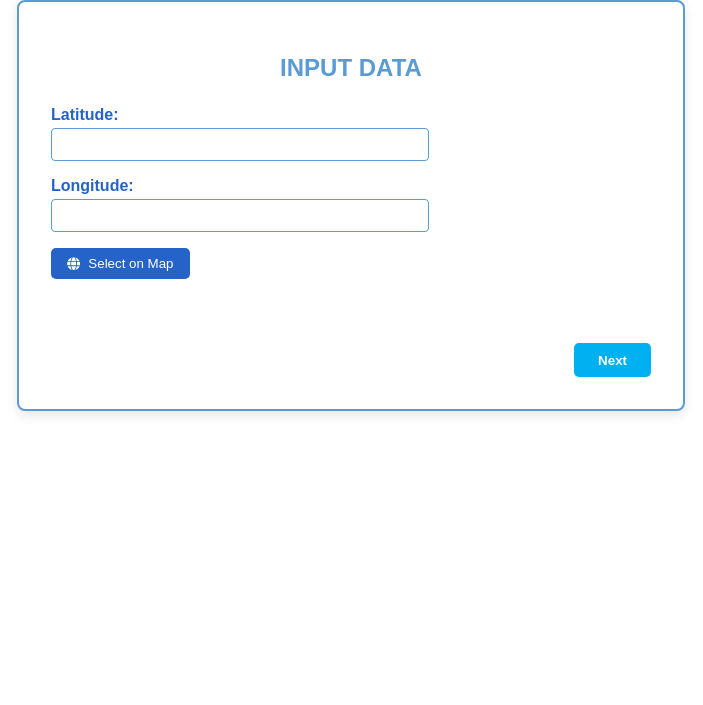
it: shows a visible message when the backend request fails
Step 1. Type "4.6097" into the field named "latitude" below "Latitude:" → (240, 144), box [51,128,429,161]
Step 2. Type "-74.0817" into the field named "longitude" below "Longitude:" → (240, 215), box [51,199,429,232]
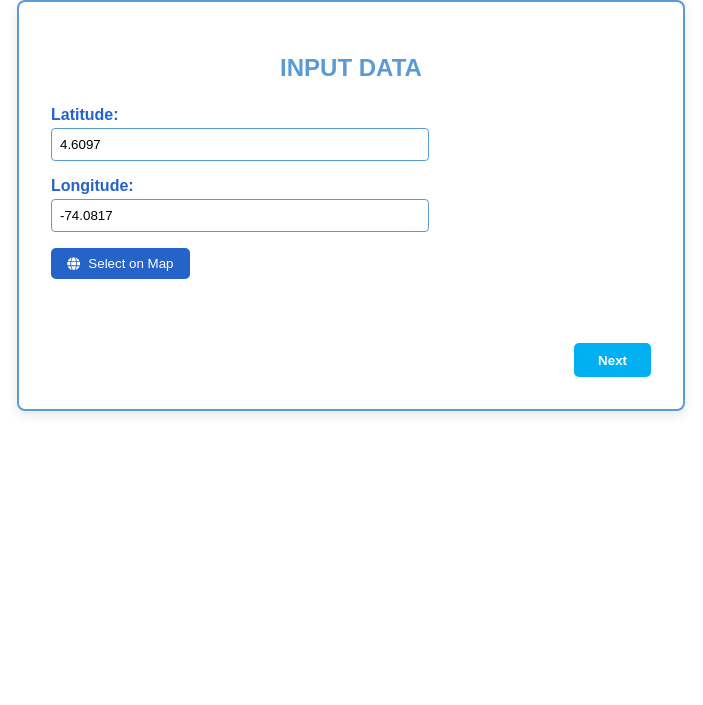
Step 3. Click the button "Next" → (613, 360), box [574,343,651,377]
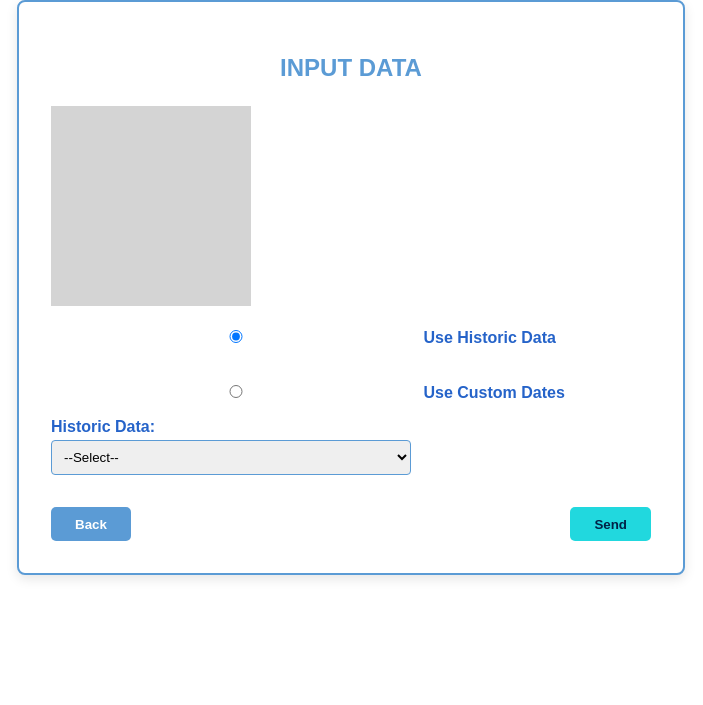
Step 4. Click the radio button labelled "Use Custom Dates" → (236, 391), box [56,385,416,398]
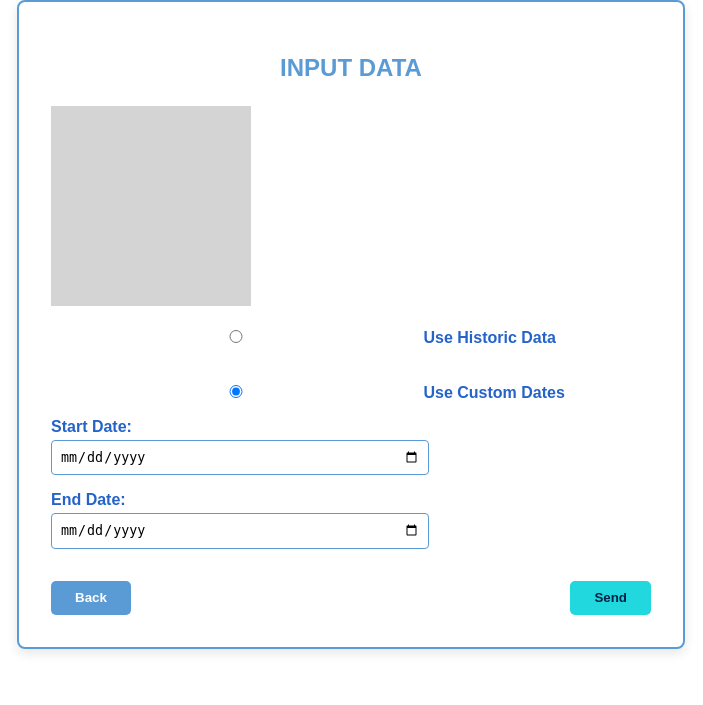
Step 5. Type "2020-08-18" into the date field named "startDate" below "Start Date:" → (240, 458), box [51,440,429,475]
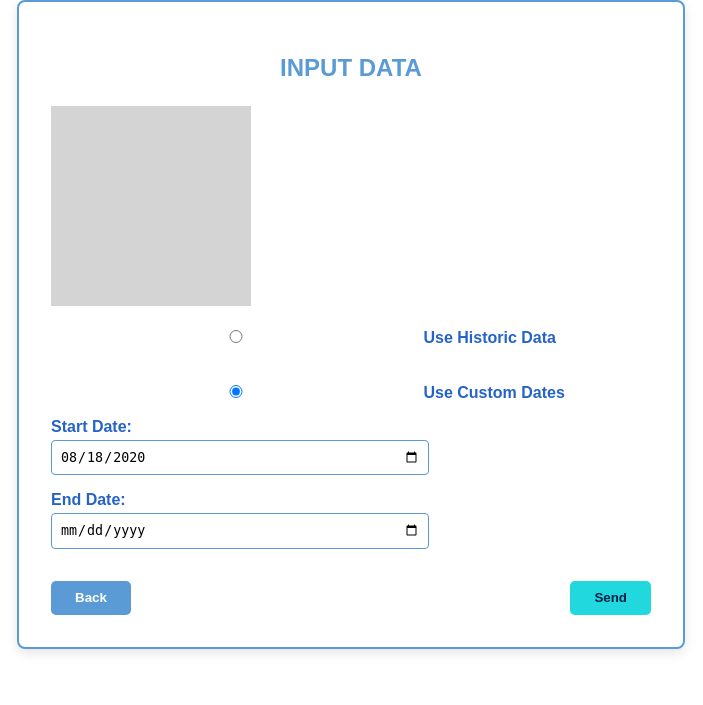
Step 6. Type "2020-08-19" into the date field named "endDate" below "End Date:" → (240, 531), box [51,513,429,548]
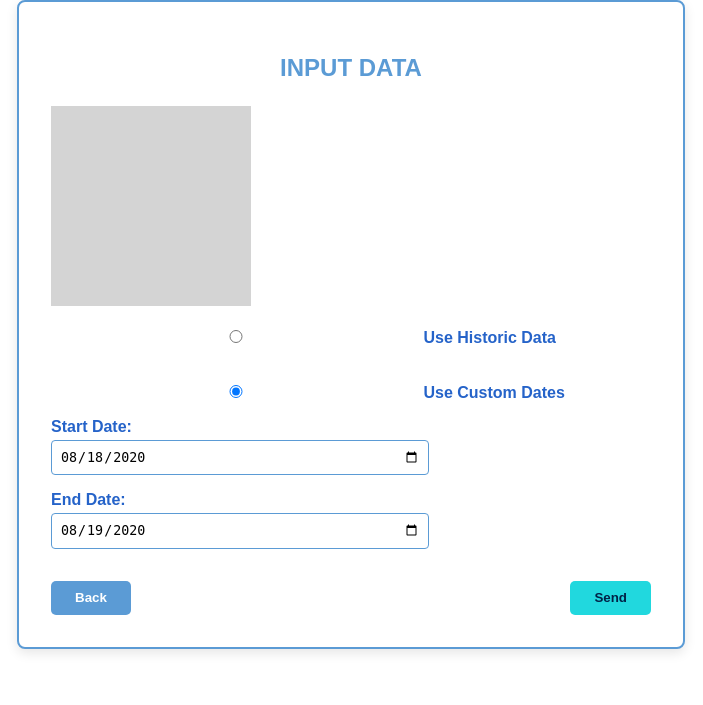
Step 7. Click the button "Send" → (611, 598), box [570,581,651,615]
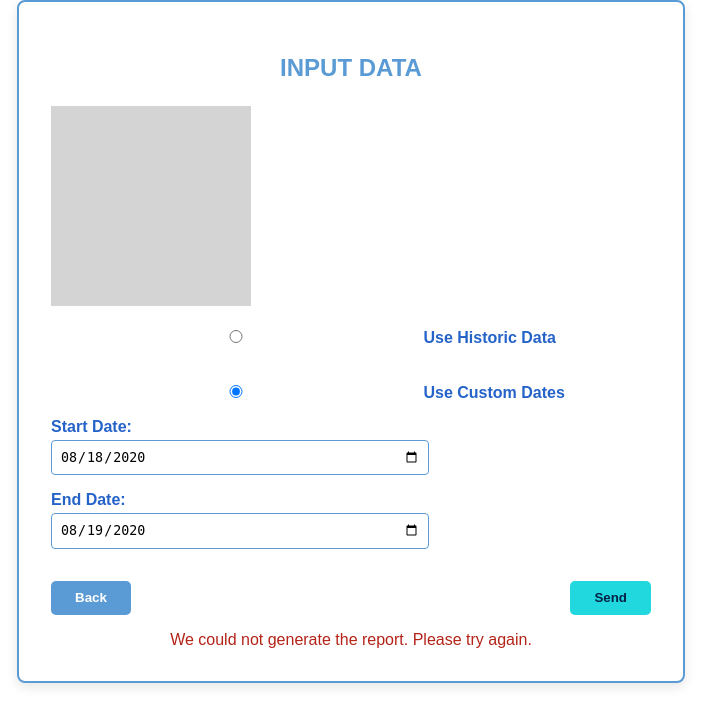
expect the message reads "We could not generate the report. Please try again.": met, box [170,631,532,648]
